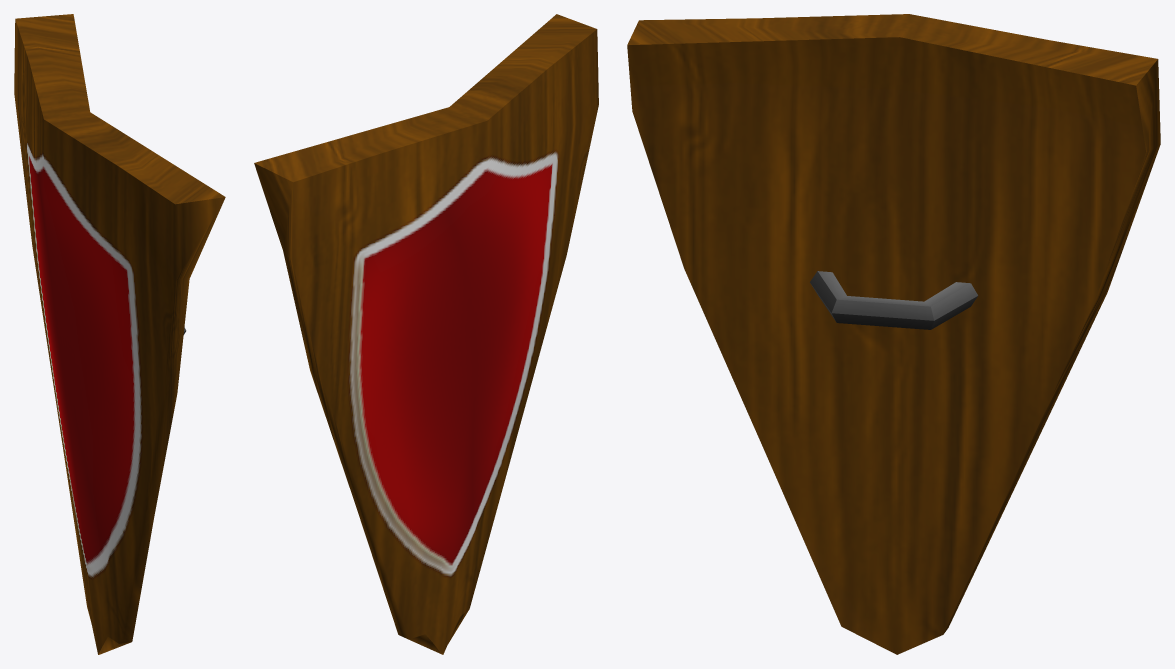
Rendered from Shield_2.fbx.
3 views of the same model, side by side, from view 1: azimuth 30°, elevation 25°; view 2: azimuth 150°, elevation 25°; view 3: azimuth 270°, elevation 25° (orthographic). The views are drawn at different scales.
Visible parts, largest first — view 1: Shield_2; view 2: Shield_2; view 3: Shield_2.
Part boxes in pixels (<box>): Shield_2: <box>14,14,225,654</box>; Shield_2: <box>254,14,598,654</box>; Shield_2: <box>627,14,1160,654</box>.
Size of the model in its own units: 1.06 by 4.22 by 3.33.
Materials: 1 (1 with a texture image).
